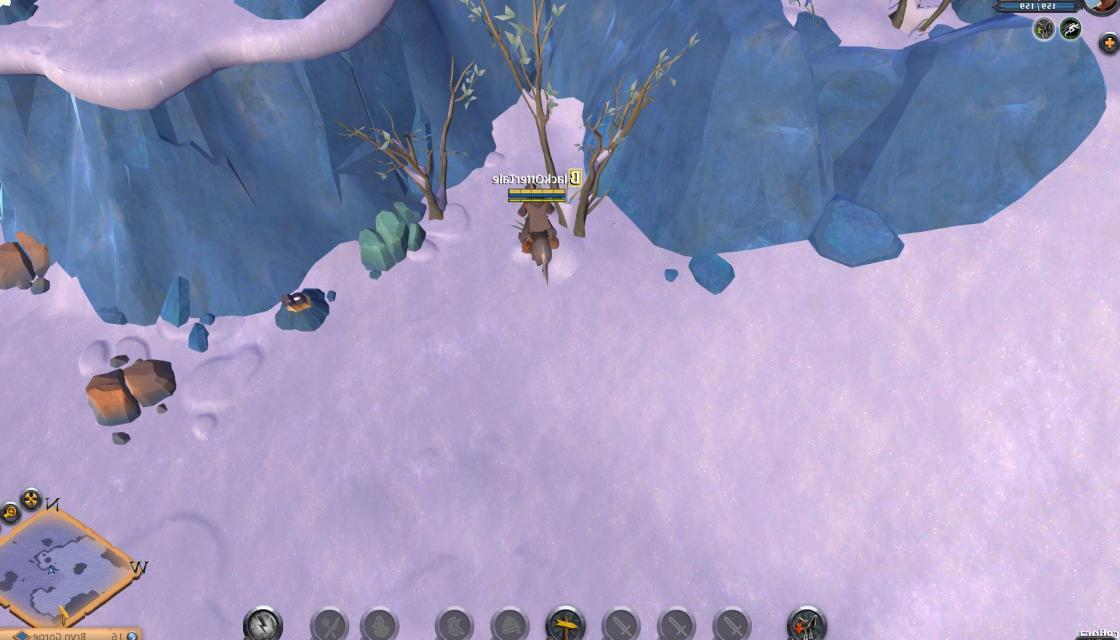copperore: (273, 278, 332, 332), (0, 0, 35, 22)
limestone: (84, 356, 182, 428), (0, 228, 60, 297)
sandstone: (354, 202, 429, 274)
